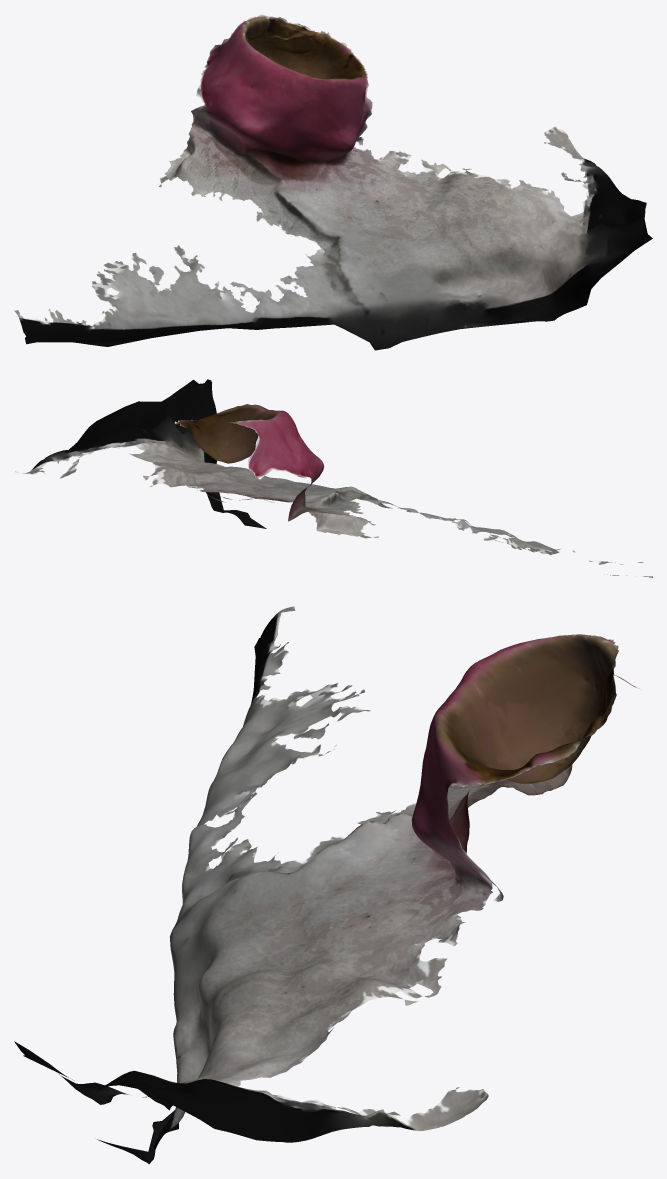
3 renders of one model, top to bottom at view 1: azimuth 30°, elevation 25°; view 2: azimuth 150°, elevation 25°; view 3: azimuth 270°, elevation 25°, orthographic. The views are drawn at different scales.
Bounding box in the file's own units: 0.6784 × 0.261 × 0.3769.
Materials: 1 (1 with a texture image).
